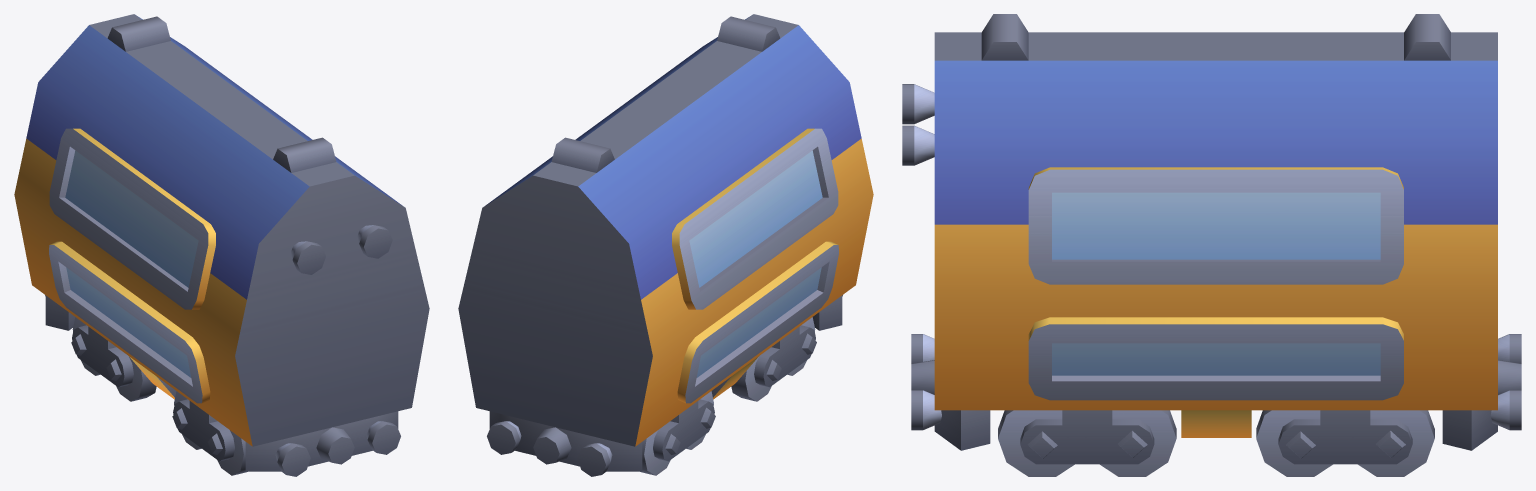
File: kenney-train-train-electric-double-c.glb
3 views of the same model, side by side, from view 1: azimuth 30°, elevation 25°; view 2: azimuth 150°, elevation 25°; view 3: azimuth 270°, elevation 25° (orthographic). The views are drawn at different scales.
Visible parts, largest first — view 1: train-electric-double-c; view 2: train-electric-double-c; view 3: train-electric-double-c.
Part boxes in pixels (x1,y1,x2,y2): train-electric-double-c: [14, 14, 429, 476]; train-electric-double-c: [458, 14, 873, 476]; train-electric-double-c: [902, 14, 1521, 476].
Size of the model in its own units: 1.29 by 1.92 by 2.64.
1 material, 1 textured.
